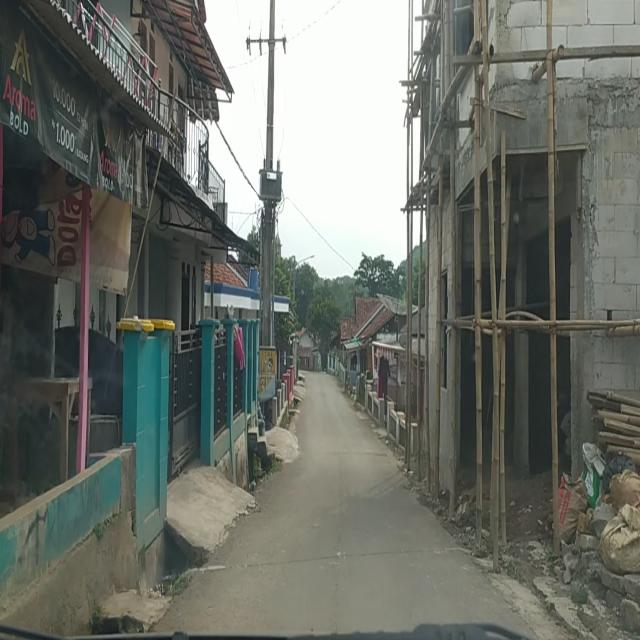Sewer Cover: (226, 546, 458, 569)
